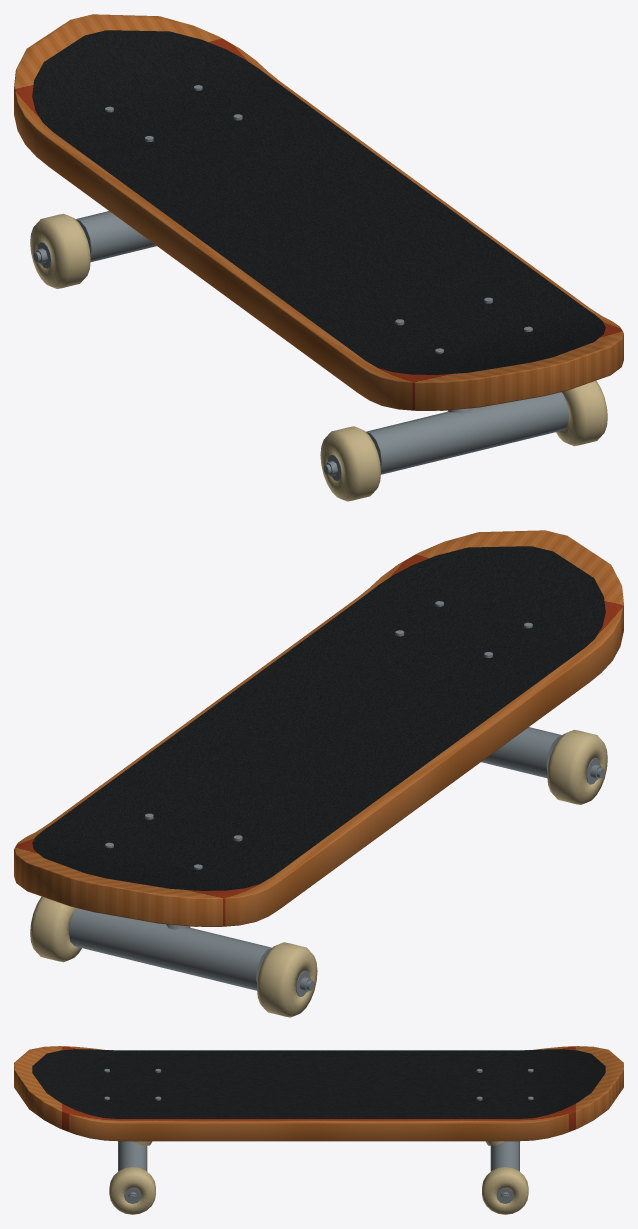
File: tam_skateboard.glb
3 renders of one model, top to bottom at view 1: azimuth 30°, elevation 25°; view 2: azimuth 150°, elevation 25°; view 3: azimuth 270°, elevation 25°, orthographic. The views are drawn at different scales.
Parts seen in each view (by area): view 1: TamSkateboard; view 2: TamSkateboard; view 3: TamSkateboard.
Boxes of the visible parts, bbox=[...] form: TamSkateboard: bbox=[14, 14, 623, 501]; TamSkateboard: bbox=[14, 530, 623, 1017]; TamSkateboard: bbox=[14, 1046, 623, 1214].
Bounding box in the file's own units: 0.28 × 0.1669 × 0.835.
4 materials, 4 textured.
